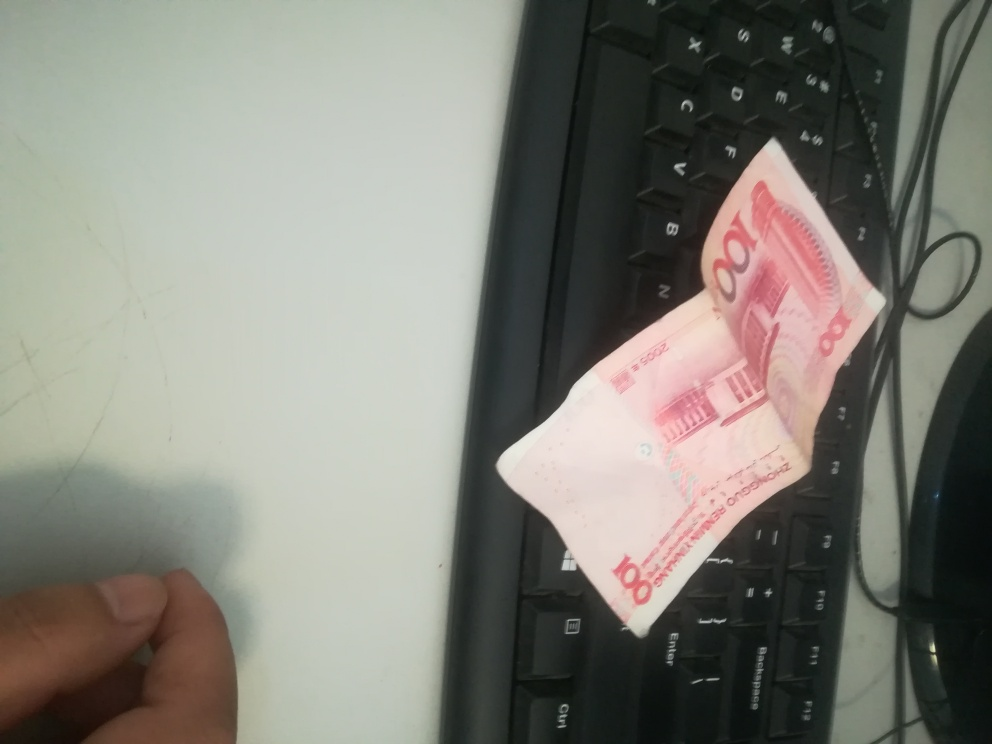rmb: (498, 136, 890, 643)
